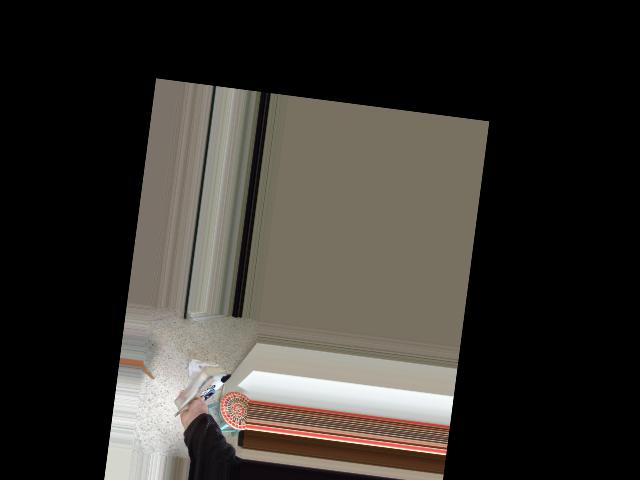cheese: (165, 351, 241, 433)
